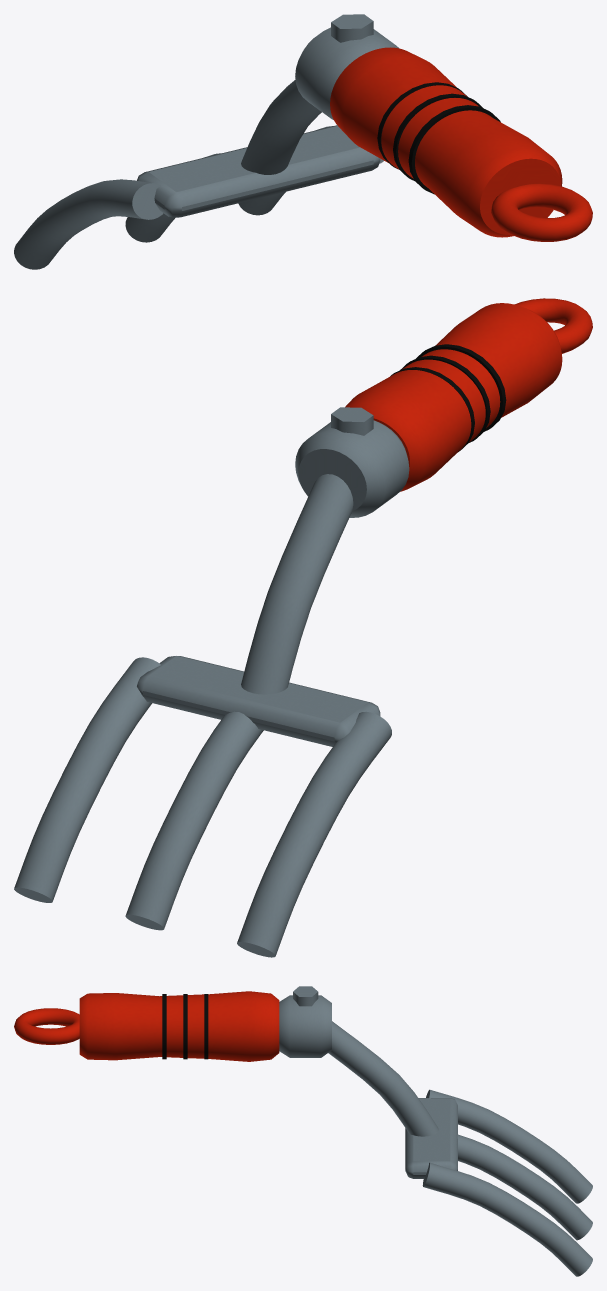
File: HandCultivator.gltf
3 views of the same model, one above another, from view 1: azimuth 30°, elevation 25°; view 2: azimuth 150°, elevation 25°; view 3: azimuth 270°, elevation 25° (orthographic). The views are drawn at different scales.
Visible parts, largest first — view 1: HandCultivator__Body; view 2: HandCultivator__Body; view 3: HandCultivator__Body.
Boxes of the visible parts, bbox=[...] form: HandCultivator__Body: bbox=[14, 14, 592, 269]; HandCultivator__Body: bbox=[14, 298, 592, 957]; HandCultivator__Body: bbox=[14, 986, 592, 1276].
Size of the model in its own units: 0.1027 by 0.1389 by 0.2955.
Materials: 1 (1 with a texture image).
